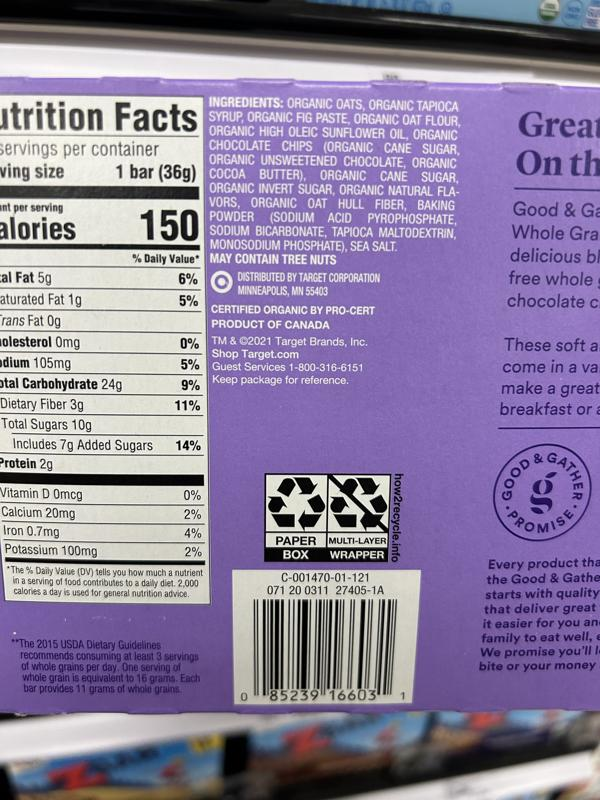ingredients: (207, 95, 462, 253)
